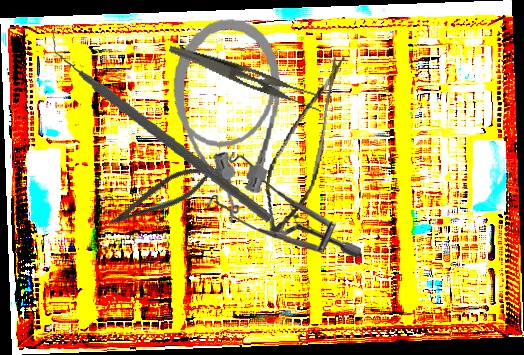Cannula: (161, 13, 287, 227)
Chopper: (35, 26, 288, 223)
Dressing Forceps: (163, 44, 328, 115)
Micro Scissor: (258, 44, 346, 244), (104, 153, 221, 240)
Speculum: (206, 151, 363, 257)
